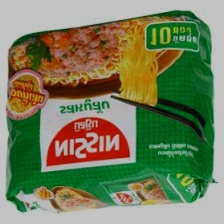snack: (0, 6, 221, 219)
